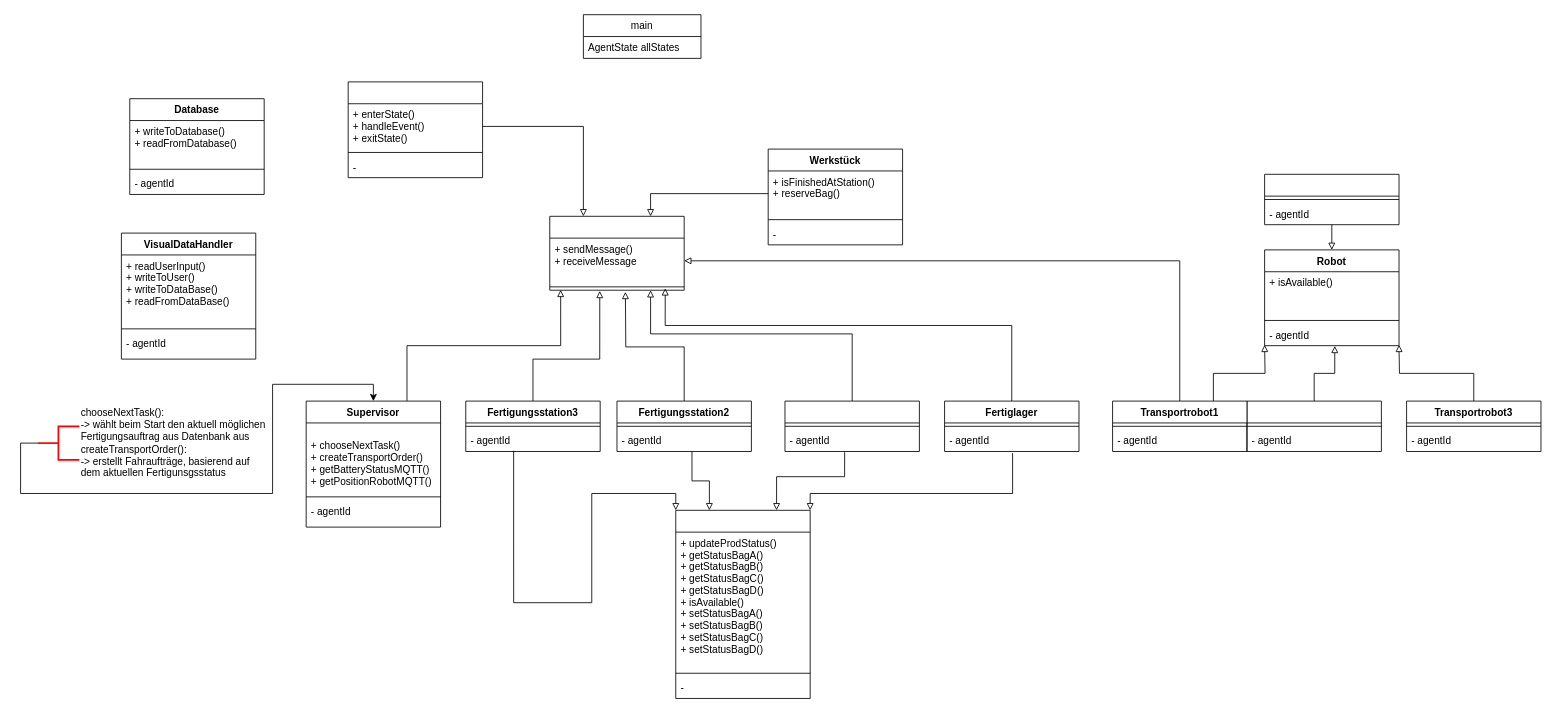
The diagram is 1556 pixels wide and 716 high, and some of its shapes have lost their labels. Here are the shapes that lost their labels. From the top down, the box of each, then its label:
(347, 81, 483, 178): Disptacher
(1264, 173, 1399, 225): Transportrobot4
(549, 215, 684, 290): MessageInterface
(784, 400, 919, 452): Rohteillager
(1246, 400, 1381, 452): Transportrobot2
(675, 509, 810, 698): Station
